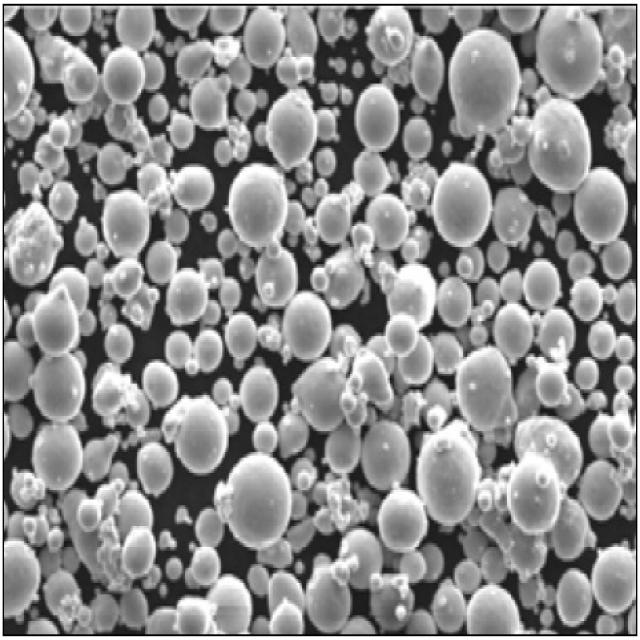cells: (450, 30, 518, 136), (215, 454, 290, 549), (418, 424, 479, 524), (536, 6, 601, 98), (526, 98, 590, 190), (432, 163, 493, 248), (228, 165, 286, 254), (456, 348, 518, 430), (2, 202, 62, 286), (163, 398, 227, 475), (509, 450, 562, 532), (513, 417, 583, 479), (340, 348, 393, 427), (265, 90, 316, 168), (290, 357, 344, 430), (574, 168, 626, 242), (359, 421, 411, 492), (30, 354, 84, 422), (377, 484, 428, 552), (32, 423, 81, 492), (0, 26, 35, 122), (591, 542, 638, 612), (335, 527, 385, 592), (285, 290, 330, 362), (102, 192, 150, 258), (577, 457, 623, 523), (464, 585, 522, 637), (388, 264, 435, 328), (254, 245, 300, 309), (354, 85, 399, 150), (364, 5, 412, 65), (33, 288, 78, 352), (321, 248, 366, 312), (308, 566, 350, 633), (487, 117, 529, 184), (243, 6, 286, 69), (205, 575, 254, 630), (365, 194, 413, 248), (492, 184, 534, 244), (3, 540, 38, 611), (548, 498, 588, 560), (492, 303, 534, 362), (369, 574, 414, 629), (190, 73, 233, 130), (410, 33, 444, 105), (165, 270, 208, 326), (554, 570, 594, 630), (134, 439, 175, 497), (430, 578, 469, 636), (530, 308, 576, 357), (104, 48, 144, 103), (172, 163, 216, 213), (139, 358, 180, 411), (78, 431, 120, 482), (240, 366, 278, 422), (112, 492, 156, 538), (121, 524, 157, 579), (316, 192, 350, 250), (92, 370, 132, 419), (316, 5, 358, 50), (267, 571, 306, 619), (570, 279, 614, 321), (41, 572, 82, 617), (352, 150, 390, 198), (400, 332, 432, 388), (325, 425, 358, 479), (274, 412, 310, 460), (404, 164, 436, 218), (175, 39, 214, 82), (172, 596, 216, 634), (430, 329, 464, 378), (524, 262, 559, 308), (439, 277, 471, 327), (9, 468, 48, 509), (95, 141, 129, 187), (46, 178, 80, 224), (116, 5, 153, 47), (146, 239, 178, 287), (193, 328, 224, 377), (568, 279, 603, 322), (534, 362, 566, 408), (226, 313, 257, 360), (421, 378, 452, 424), (328, 323, 363, 363), (386, 313, 417, 358), (65, 63, 98, 105), (600, 239, 632, 281), (103, 102, 138, 140), (402, 117, 432, 161), (451, 558, 484, 598), (195, 504, 226, 546), (140, 49, 166, 97), (112, 258, 143, 298), (479, 546, 510, 586), (586, 321, 617, 360), (6, 400, 34, 443), (472, 274, 502, 314), (58, 5, 92, 40), (105, 322, 134, 363), (192, 546, 221, 586), (134, 162, 167, 197), (118, 588, 148, 626), (290, 451, 316, 493), (396, 549, 428, 583), (314, 104, 341, 144), (164, 332, 191, 371), (247, 559, 271, 602), (90, 594, 118, 630), (196, 256, 225, 290), (15, 310, 39, 350), (519, 569, 541, 612), (499, 269, 525, 305), (144, 609, 176, 638), (607, 412, 632, 448), (16, 159, 43, 192), (78, 497, 102, 532), (211, 375, 235, 410), (283, 200, 306, 236), (164, 210, 189, 243), (73, 222, 97, 256), (567, 249, 594, 279), (575, 356, 600, 388), (170, 112, 192, 148), (485, 240, 509, 273), (450, 5, 484, 28), (252, 421, 278, 451), (146, 92, 170, 124), (48, 117, 70, 151), (612, 362, 635, 393), (314, 146, 336, 178), (408, 228, 431, 258), (555, 230, 577, 260), (400, 394, 424, 421), (219, 280, 240, 310), (604, 66, 628, 92), (234, 89, 256, 117), (311, 506, 333, 534), (423, 407, 449, 430), (86, 258, 105, 289), (44, 528, 66, 554), (615, 334, 635, 362), (77, 310, 97, 338), (399, 239, 421, 263), (466, 326, 488, 349), (50, 120, 68, 148), (217, 232, 236, 258), (214, 138, 232, 164), (166, 555, 184, 581), (197, 212, 219, 233), (606, 46, 626, 68), (238, 257, 254, 283), (254, 122, 270, 147), (320, 82, 338, 104), (457, 256, 473, 280), (128, 303, 145, 324), (312, 271, 327, 292), (266, 239, 281, 260), (295, 475, 310, 495), (604, 284, 616, 308), (262, 280, 275, 301), (147, 286, 160, 307), (334, 56, 346, 76), (352, 60, 364, 78), (178, 507, 188, 525), (178, 92, 188, 109), (295, 558, 304, 576), (443, 142, 452, 156)
